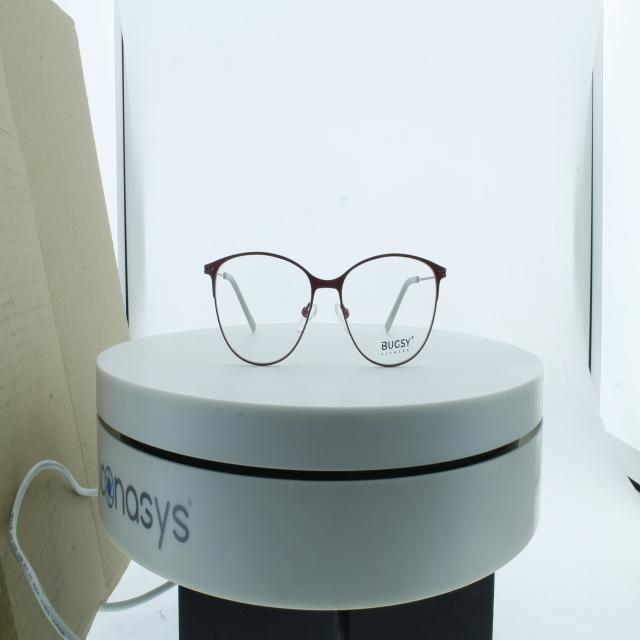Specs: (177, 212, 458, 384)
